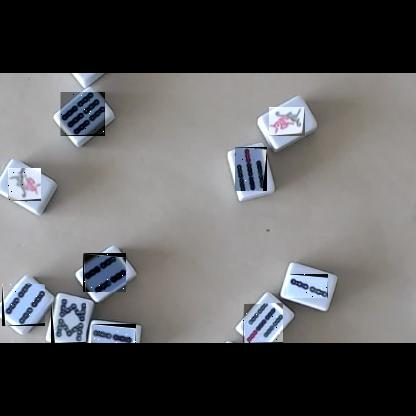1s: (8, 168, 41, 201), (269, 107, 305, 136)
2s: (286, 274, 328, 298)
4s: (2, 284, 45, 326), (83, 253, 126, 292), (91, 324, 136, 343)
6s: (60, 92, 105, 136)
7s: (243, 303, 283, 343), (235, 147, 267, 191)
8s: (51, 299, 86, 343)
